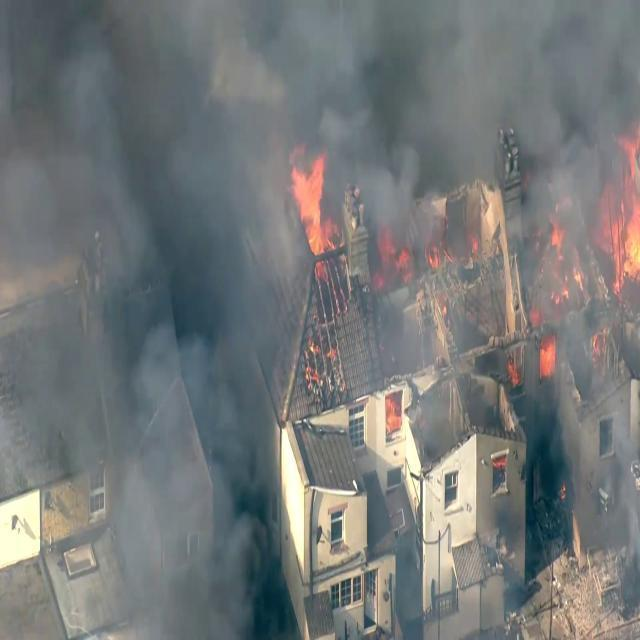Fire: (285, 140, 332, 262), (605, 138, 640, 294)
Smoke: (0, 0, 219, 246), (492, 0, 640, 144)
